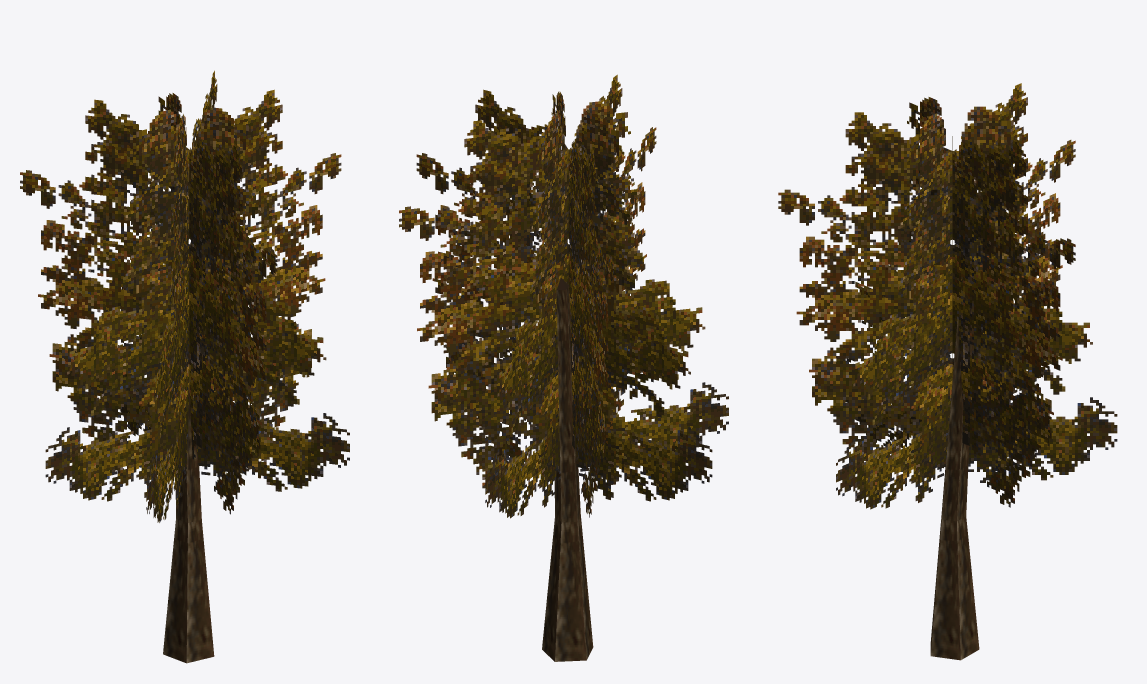
The model's file is tree_4.glb.
3 renders of one model, left to right at view 1: azimuth 30°, elevation 25°; view 2: azimuth 150°, elevation 25°; view 3: azimuth 270°, elevation 25°, orthographic.
Parts seen in each view (by area): view 1: Ps1Tree4Texture.003, Ps1Tree4Texture.001, Ps1Tree4Texture, Ps1Tree4Texture.002, Trunk.003; view 2: Ps1Tree4Texture.002, Ps1Tree4Texture.001, Ps1Tree4Texture, Ps1Tree4Texture.003, Trunk.003; view 3: Ps1Tree4Texture, Ps1Tree4Texture.002, Ps1Tree4Texture.003, Trunk.003.
Boxes of the visible parts, left/top/right/bottom form: Ps1Tree4Texture.003: left=20, top=99, right=349, bottom=494; Ps1Tree4Texture.001: left=45, top=89, right=341, bottom=501; Ps1Tree4Texture: left=120, top=93, right=277, bottom=514; Ps1Tree4Texture.002: left=146, top=70, right=234, bottom=522; Trunk.003: left=163, top=353, right=214, bottom=663; Ps1Tree4Texture.002: left=399, top=101, right=728, bottom=493; Ps1Tree4Texture.001: left=416, top=89, right=712, bottom=501; Ps1Tree4Texture: left=485, top=74, right=656, bottom=518; Ps1Tree4Texture.003: left=539, top=91, right=613, bottom=517; Trunk.003: left=542, top=278, right=593, bottom=661; Ps1Tree4Texture: left=778, top=106, right=1117, bottom=482; Ps1Tree4Texture.002: left=845, top=97, right=1075, bottom=507; Ps1Tree4Texture.003: left=836, top=83, right=1075, bottom=509; Trunk.003: left=930, top=275, right=979, bottom=660.
Bounding box in the file's own units: 1.07 × 1.83 × 1.07.
2 materials, 2 textured.
